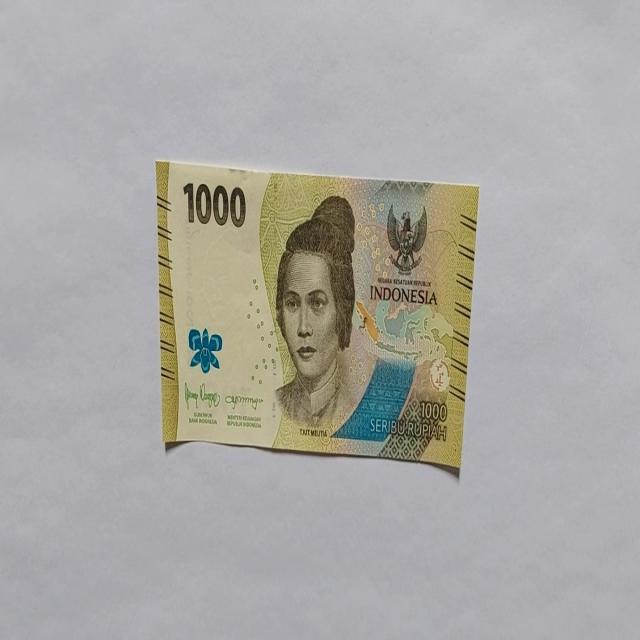seribu rupiah kertas: (154, 157, 480, 474)
